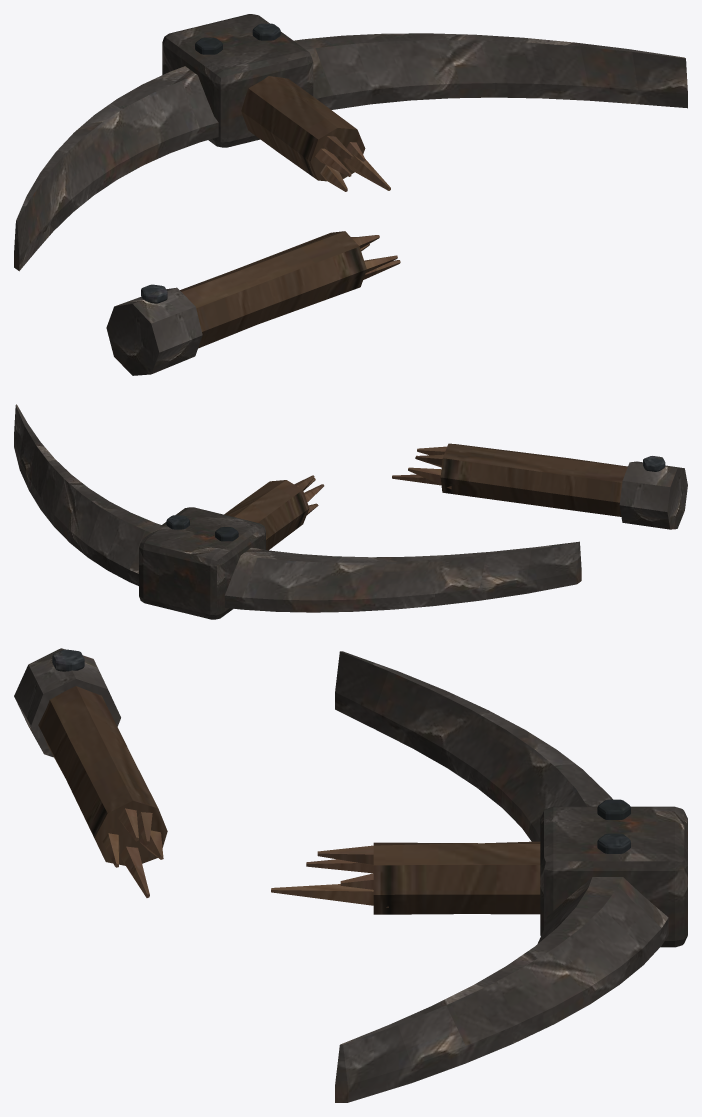
File: junk_pickaxe_broken.glb
The picture shows the model from 3 angles, top to bottom: view 1: azimuth 30°, elevation 25°; view 2: azimuth 150°, elevation 25°; view 3: azimuth 270°, elevation 25°; orthographic projection. The views are drawn at different scales.
Visible parts, largest first — view 1: model; view 2: model; view 3: model.
Boxes of the visible parts, <box> form: model: <box>14,14,687,375</box>; model: <box>14,404,687,619</box>; model: <box>14,648,687,1102</box>.
Size of the model in its own units: 0.5864 by 0.0756 by 0.4201.
Materials: 6 (6 with a texture image).
